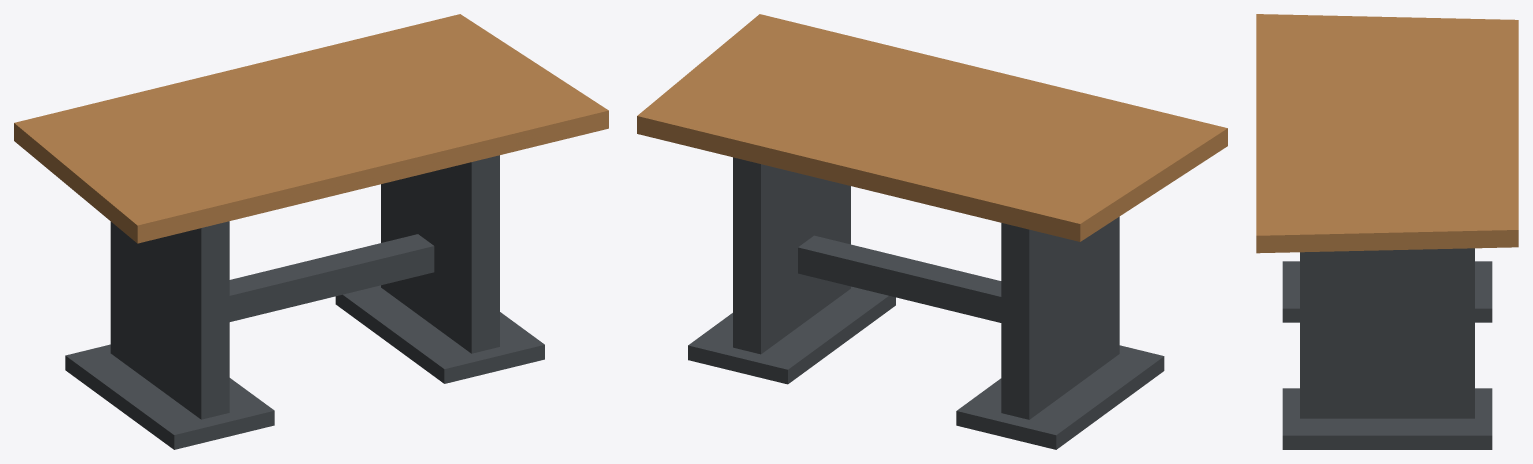
3 views of the same model, side by side, from view 1: azimuth 30°, elevation 25°; view 2: azimuth 150°, elevation 25°; view 3: azimuth 270°, elevation 25° (orthographic). The views are drawn at different scales.
Parts seen in each view (by area): view 1: tabletop_mesh, left_pedestal_mesh, right_pedestal_mesh, lower_brace_mesh; view 2: tabletop_mesh, left_pedestal_mesh, right_pedestal_mesh, lower_brace_mesh; view 3: tabletop_mesh, right_pedestal_mesh, left_pedestal_mesh.
Part boxes in pixels (x1,y1,x2,y2): tabletop_mesh: (14, 14, 608, 243); left_pedestal_mesh: (65, 221, 274, 449); right_pedestal_mesh: (335, 155, 544, 383); lower_brace_mesh: (229, 234, 434, 321); tabletop_mesh: (637, 14, 1227, 241); left_pedestal_mesh: (956, 216, 1164, 449); right_pedestal_mesh: (688, 157, 895, 384); lower_brace_mesh: (798, 235, 1001, 322); tabletop_mesh: (1256, 14, 1518, 253); right_pedestal_mesh: (1282, 248, 1492, 449); left_pedestal_mesh: (1282, 261, 1492, 322).
Bounding box in the file's own units: 1500 × 750 × 750.
